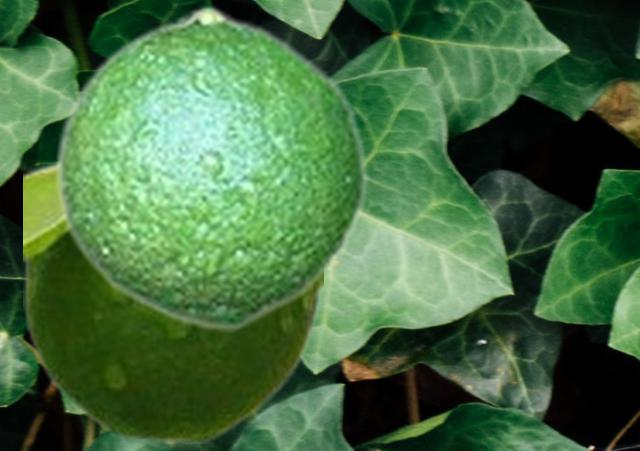dalandan: (52, 4, 368, 331), (23, 159, 322, 442)
